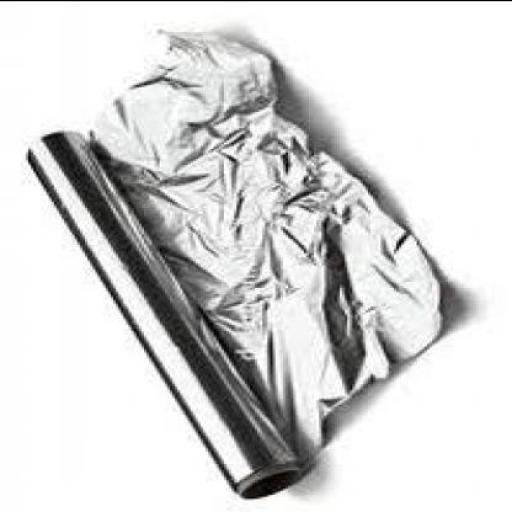metal: (23, 30, 442, 500)
